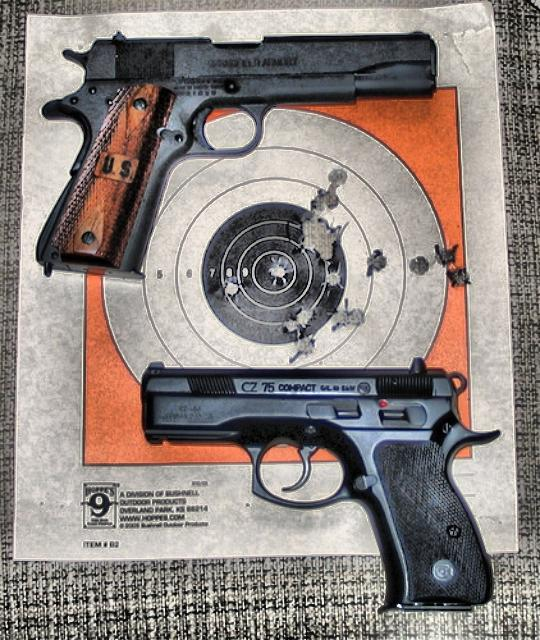pistol: (34, 26, 438, 274), (142, 360, 496, 614)
